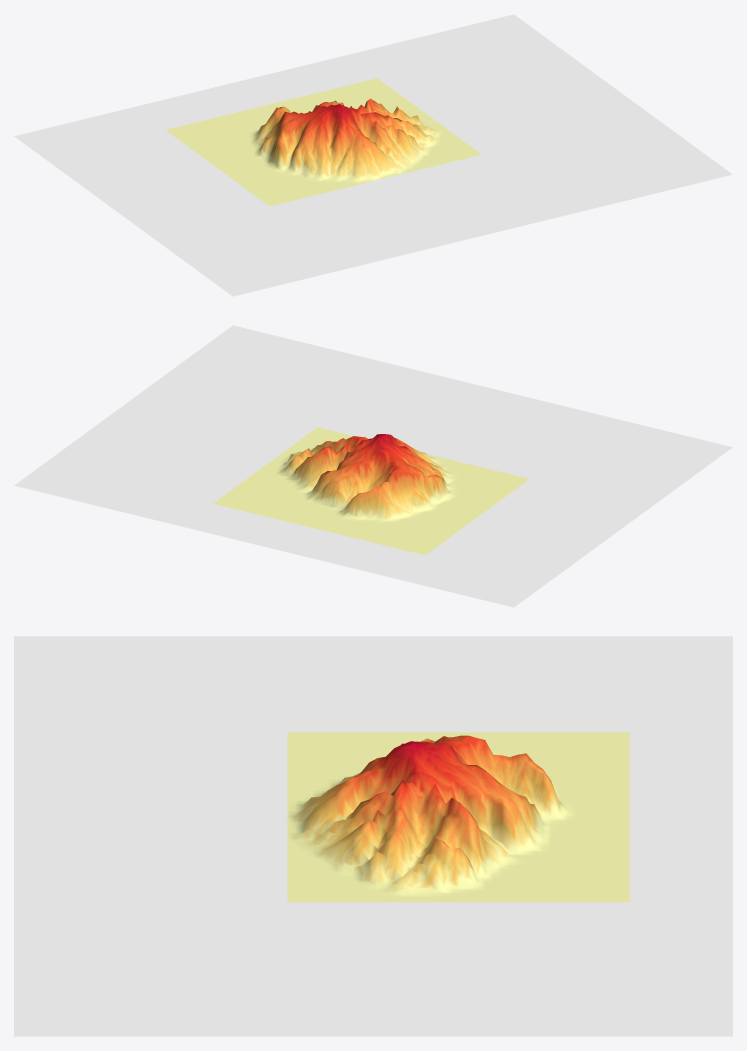
The model's file is gomera.gltf.
3 views of the same model, one above another, from view 1: azimuth 30°, elevation 25°; view 2: azimuth 150°, elevation 25°; view 3: azimuth 270°, elevation 25° (orthographic). The views are drawn at different scales.
Parts seen in each view (by area): view 1: Combinado; view 2: Combinado; view 3: Combinado.
Boxes of the visible parts, box(x1,y1,x2,y2) form: Combinado: box(14, 14, 732, 296); Combinado: box(14, 325, 732, 607); Combinado: box(14, 636, 732, 1036).
Size of the model in its own units: 78277 by 6932 by 59396.
1 material, 1 textured.
